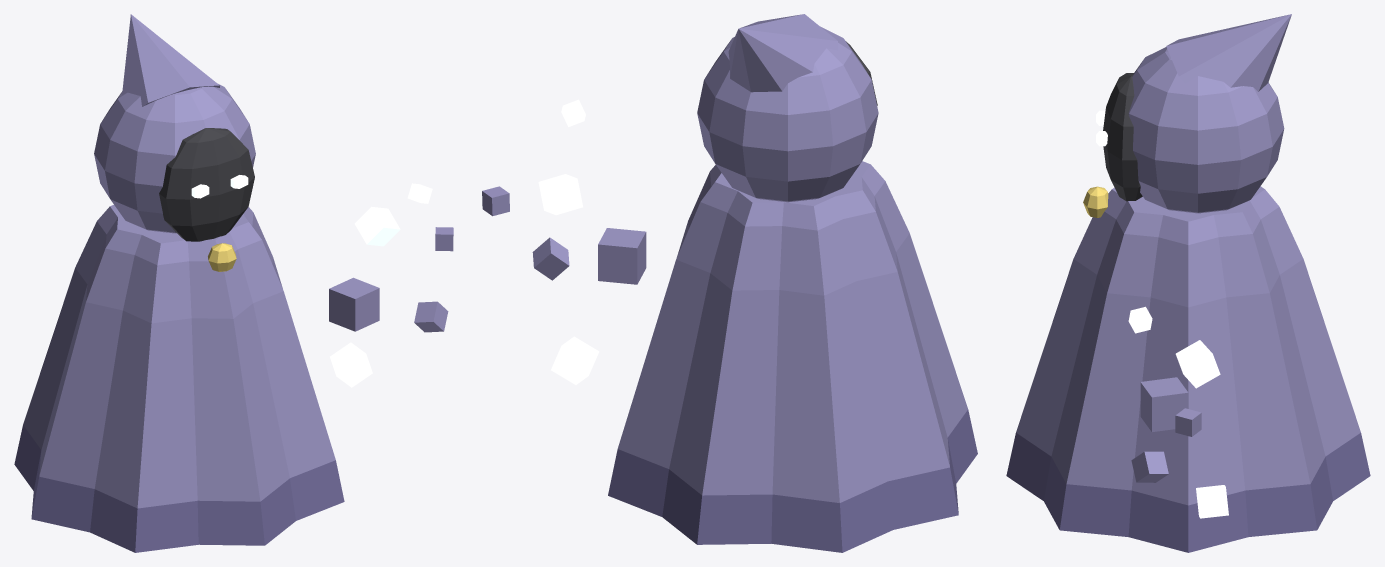
The model's file is item_cloak.glb.
3 renders of one model, left to right at view 1: azimuth 30°, elevation 25°; view 2: azimuth 150°, elevation 25°; view 3: azimuth 270°, elevation 25°, orthographic. The views are drawn at different scales.
Parts seen in each view (by area): view 1: item_cloak; view 2: item_cloak; view 3: item_cloak.
Boxes of the visible parts, x1,y1,x2,y2 form: item_cloak: (14, 14, 453, 552); item_cloak: (482, 14, 977, 552); item_cloak: (1006, 14, 1370, 552).
Bounding box in the file's own units: 1.09 × 1.06 × 0.76.
